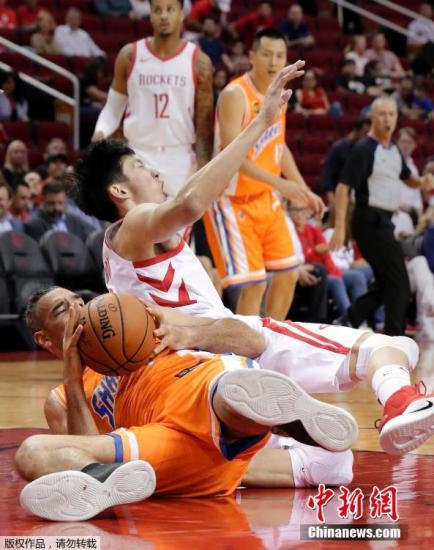10+: (3, 1, 434, 377)
down: (43, 134, 431, 456), (4, 277, 367, 540)
